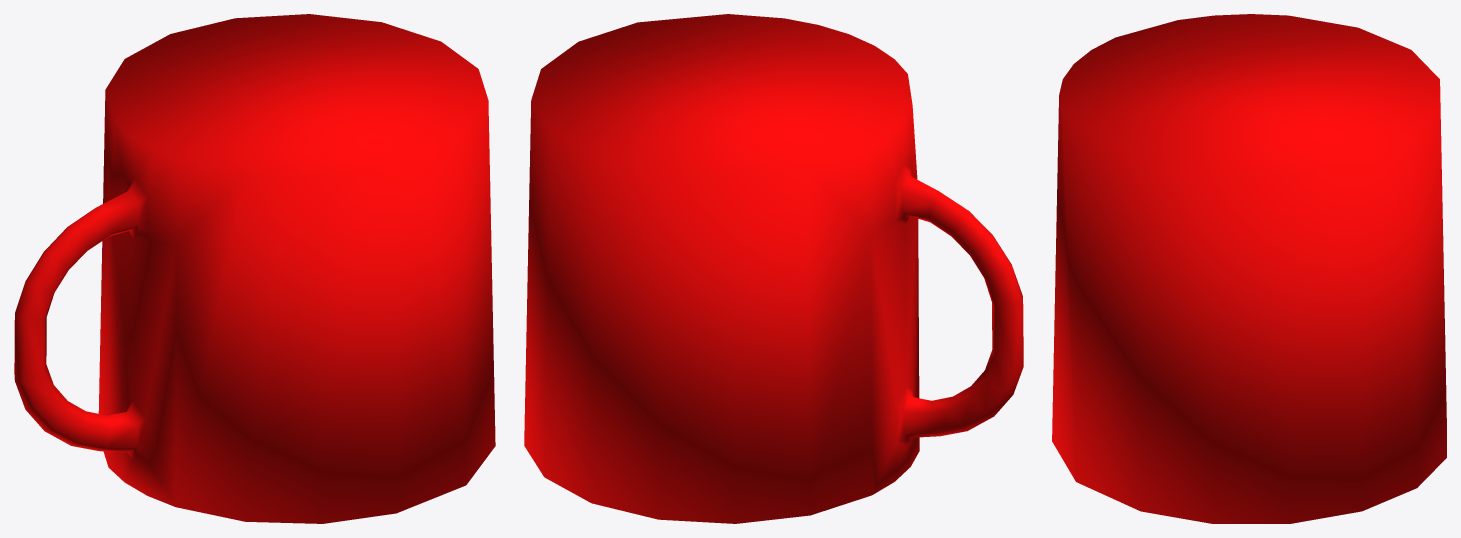
File: mugred.glb
The picture shows the model from 3 angles, left to right: view 1: azimuth 30°, elevation 25°; view 2: azimuth 150°, elevation 25°; view 3: azimuth 270°, elevation 25°; orthographic projection.
Visible parts, largest first — view 1: mugred; view 2: mugred; view 3: mugred.
Part boxes in pixels (bbox=[...]): mugred: bbox=[14, 14, 495, 523]; mugred: bbox=[524, 14, 1023, 523]; mugred: bbox=[1052, 14, 1446, 523].
Bounding box in the file's own units: 0.82 × 0.5892 × 0.6075.
1 material, 1 textured.
